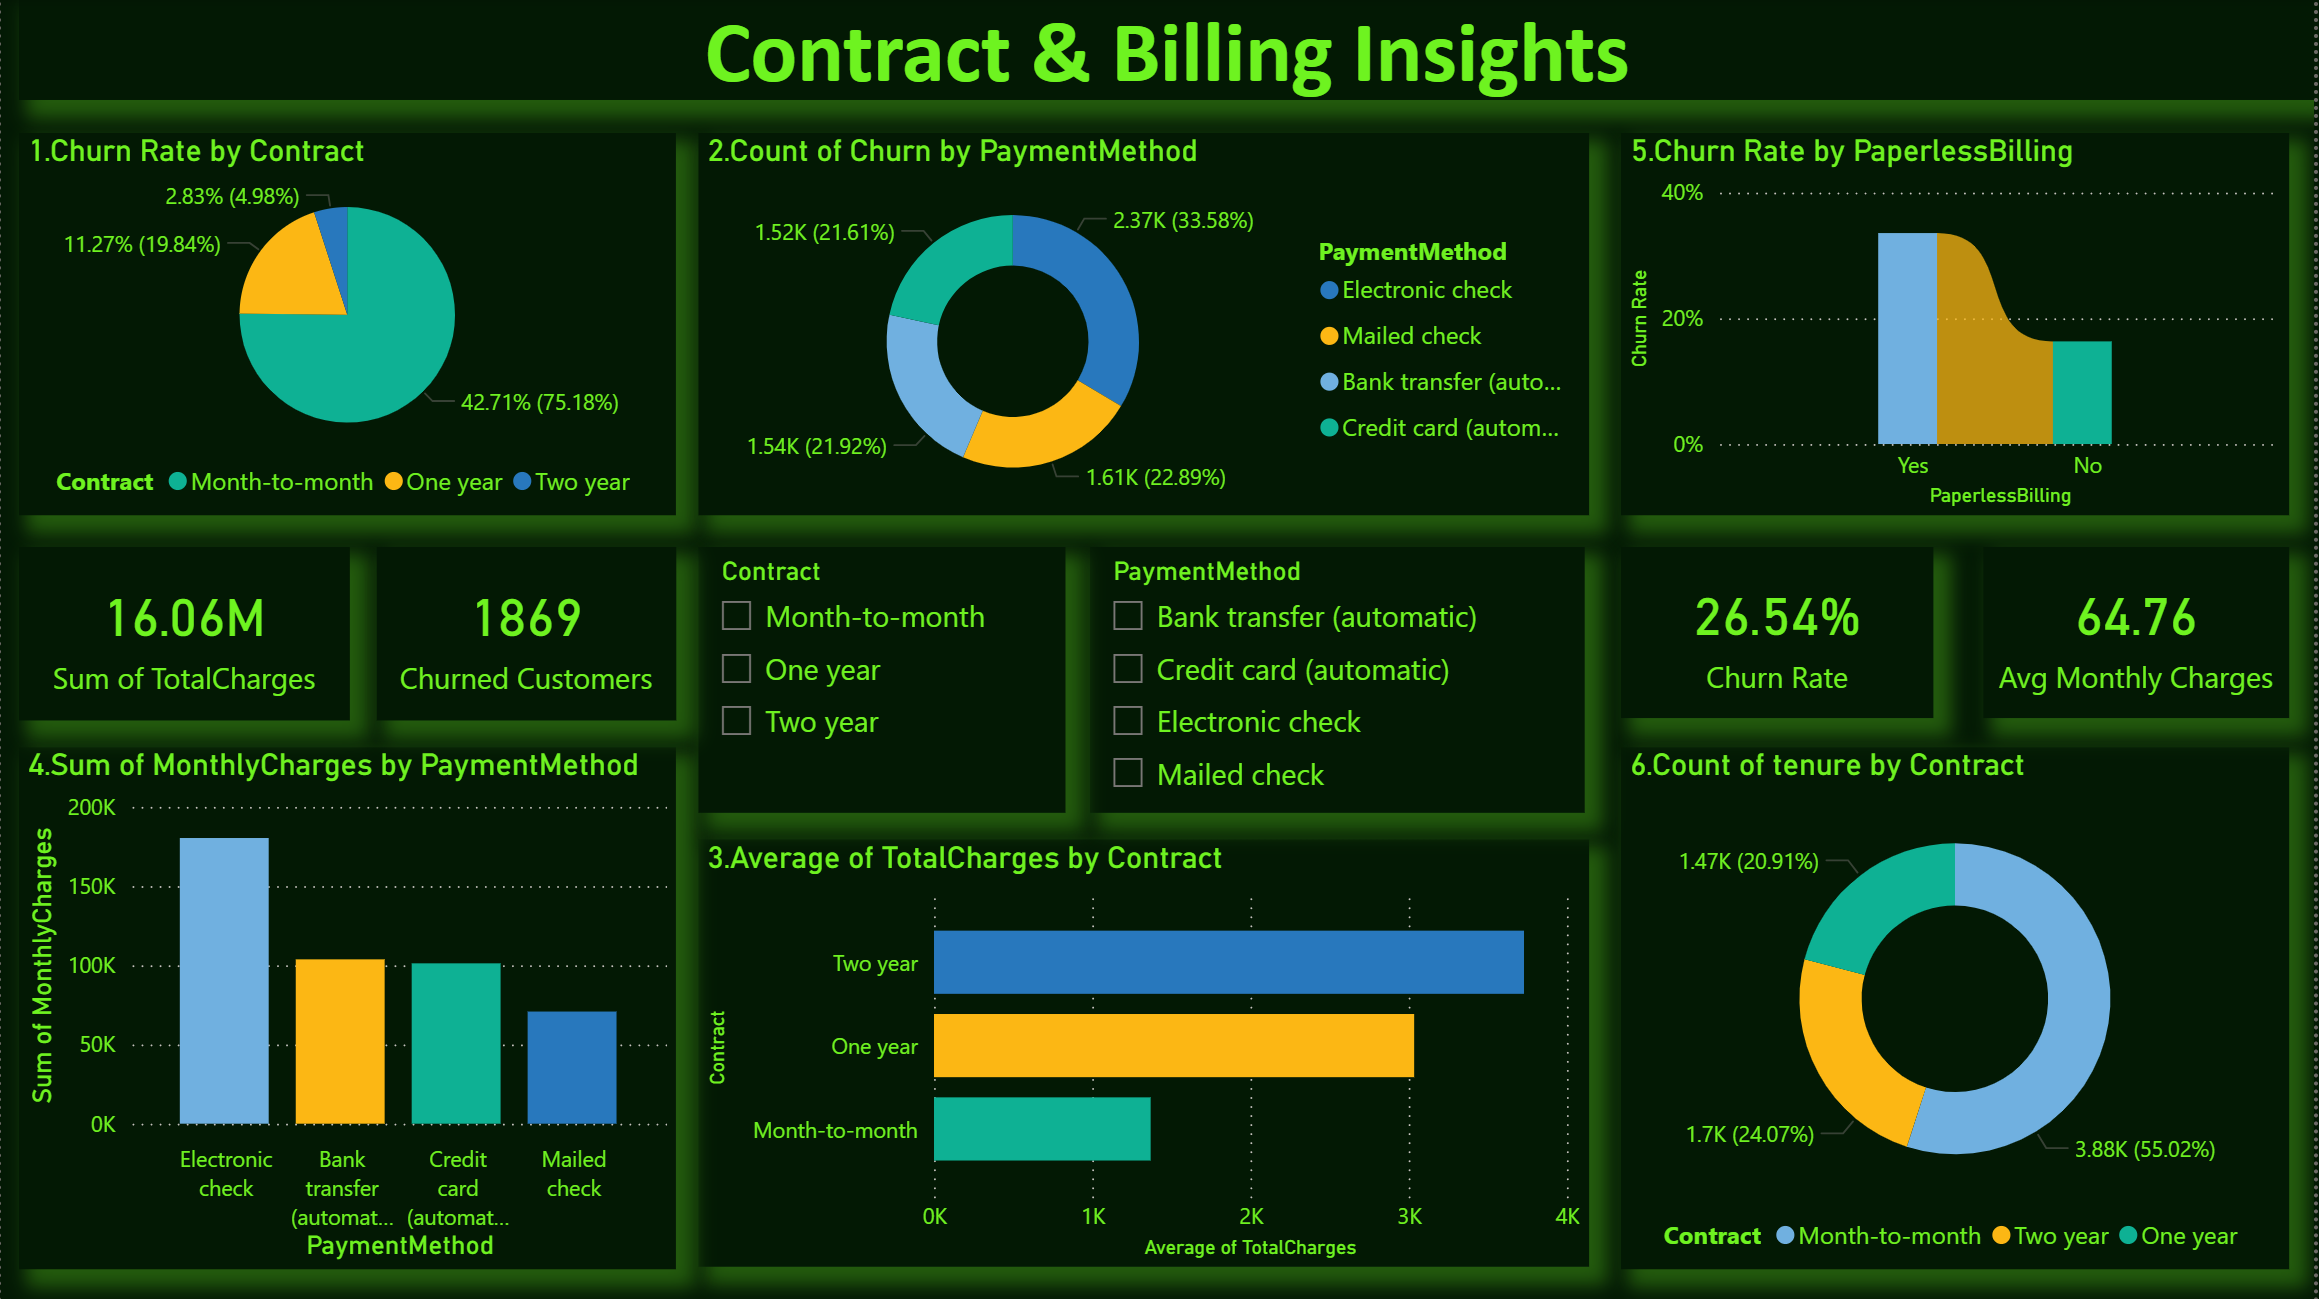

The page's visual inventory and layout, read from the dashboard file:
{"tool":"powerbi","page":{"name":"Page 3","canvas":[1280,720],"ordinal":2},"visuals":[{"type":"textbox","title":"Contract & Billing Insights","box":[9.6,0,1270.8,56.4],"z":0},{"type":"pieChart","title":"1. Contract Type Churn","fields":{"Y":["WA_Fn-UseC_-Telco-Customer-Churn.Churn Rate"],"Category":["WA_Fn-UseC_-Telco-Customer-Churn.Contract"]},"box":[10,74.7,363.6,211.7],"z":1000},{"type":"donutChart","title":"2. Payment Method Churn","fields":{"Y":["CountNonNull(WA_Fn-UseC_-Telco-Customer-Churn.Churn)"],"Category":["WA_Fn-UseC_-Telco-Customer-Churn.PaymentMethod"]},"box":[386,74.7,493.1,211.7],"z":2000},{"type":"clusteredBarChart","title":"3. Contract Total Charges","fields":{"Category":["WA_Fn-UseC_-Telco-Customer-Churn.Contract"],"Y":["Avg(WA_Fn-UseC_-Telco-Customer-Churn.TotalCharges)"]},"box":[385.5,466.3,492.7,236.6],"z":3000},{"type":"clusteredColumnChart","title":"4. Payment Billing Pattern","fields":{"Category":["WA_Fn-UseC_-Telco-Customer-Churn.PaymentMethod"],"Y":["Sum(WA_Fn-UseC_-Telco-Customer-Churn.MonthlyCharges)"]},"box":[10,414.7,363.6,288.9],"z":4000},{"type":"ribbonChart","title":"5. Paperless Billing Churn","fields":{"Category":["WA_Fn-UseC_-Telco-Customer-Churn.PaperlessBilling"],"Y":["WA_Fn-UseC_-Telco-Customer-Churn.Churn Rate"]},"box":[896.5,74.7,369.8,211.7],"z":5000},{"type":"donutChart","title":"6. Contract Based Tenure","fields":{"Category":["WA_Fn-UseC_-Telco-Customer-Churn.Contract"],"Y":["CountNonNull(WA_Fn-UseC_-Telco-Customer-Churn.tenure)"]},"box":[896.5,414.7,369.8,288.9],"z":6000},{"type":"slicer","fields":{"Values":["WA_Fn-UseC_-Telco-Customer-Churn.PaymentMethod"]},"box":[602.7,303.8,273.9,146.9],"z":7000},{"type":"slicer","fields":{"Values":["WA_Fn-UseC_-Telco-Customer-Churn.Contract"]},"box":[386,303.8,203,146.9],"z":8000},{"type":"card","fields":{"Values":["WA_Fn-UseC_-Telco-Customer-Churn.Avg Monthly Charges"]},"box":[1097,303.8,169.3,94.6],"z":9000},{"type":"card","fields":{"Values":["Sum(WA_Fn-UseC_-Telco-Customer-Churn.TotalCharges)"]},"box":[10,303.8,183,95.9],"z":10000},{"type":"card","fields":{"Values":["WA_Fn-UseC_-Telco-Customer-Churn.Churn Rate"]},"box":[896.5,303.8,173.1,94.6],"z":11000},{"type":"card","fields":{"Values":["WA_Fn-UseC_-Telco-Customer-Churn.Churned Customers"]},"box":[207.9,303.8,165.6,95.9],"z":12000}]}

Visuals, with their boxes in screenshot pixels (x1, y1, x2, y2), scaled from the page's 1280x720 canvas onto the 2319x1299 screenshot:
"Contract & Billing Insights" textbox: 17:0:2318:102
"1. Contract Type Churn" pieChart: 18:135:677:517
"2. Payment Method Churn" donutChart: 699:135:1593:517
"3. Contract Total Charges" clusteredBarChart: 698:841:1591:1268
"4. Payment Billing Pattern" clusteredColumnChart: 18:748:677:1269
"5. Paperless Billing Churn" ribbonChart: 1624:135:2294:517
"6. Contract Based Tenure" donutChart: 1624:748:2294:1269
slicer - WA_Fn-UseC_-Telco-Customer-Churn.PaymentMethod: 1092:548:1588:813
slicer - WA_Fn-UseC_-Telco-Customer-Churn.Contract: 699:548:1067:813
card - WA_Fn-UseC_-Telco-Customer-Churn.Avg Monthly Charges: 1987:548:2294:719
card - Sum(WA_Fn-UseC_-Telco-Customer-Churn.TotalCharges): 18:548:350:721
card - WA_Fn-UseC_-Telco-Customer-Churn.Churn Rate: 1624:548:1938:719
card - WA_Fn-UseC_-Telco-Customer-Churn.Churned Customers: 377:548:677:721
